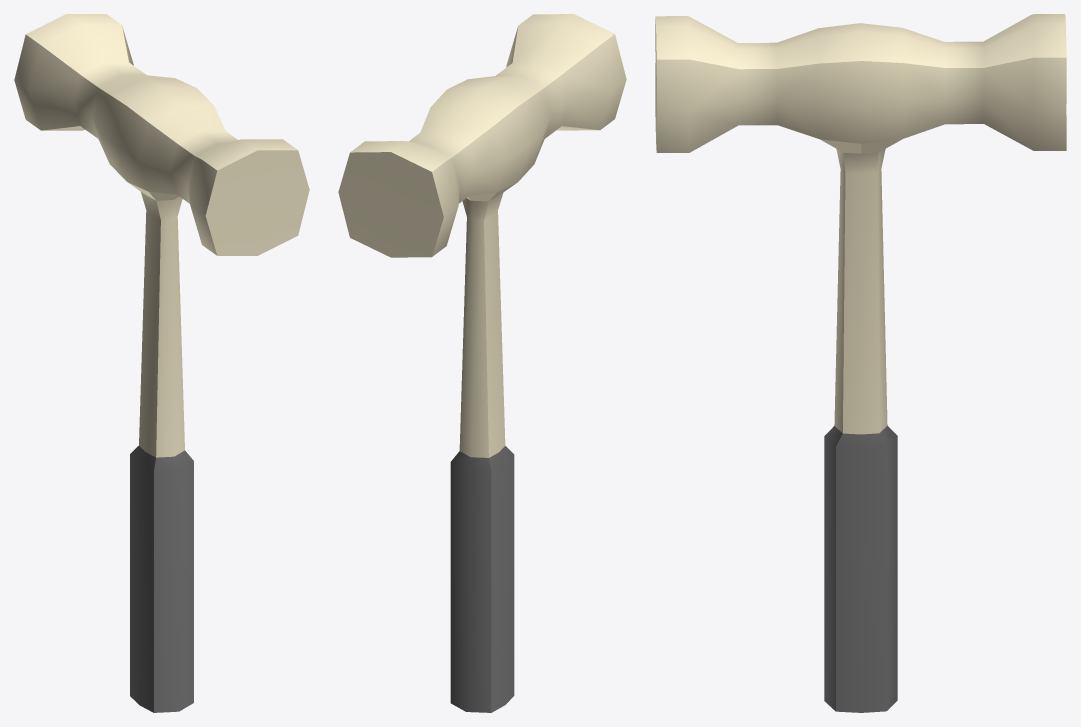
File: HammerMesh.obj
The picture shows the model from 3 angles, left to right: view 1: azimuth 30°, elevation 25°; view 2: azimuth 150°, elevation 25°; view 3: azimuth 270°, elevation 25°; orthographic projection. The views are drawn at different scales.
Visible parts, largest first — view 1: HammerMesh; view 2: HammerMesh; view 3: HammerMesh.
Boxes of the visible parts, left/top/right/bottom form: HammerMesh: left=14, top=14, right=309, bottom=712; HammerMesh: left=338, top=14, right=626, bottom=712; HammerMesh: left=655, top=14, right=1066, bottom=712.
Size of the model in its own units: 4.49 by 24.31 by 13.42.
